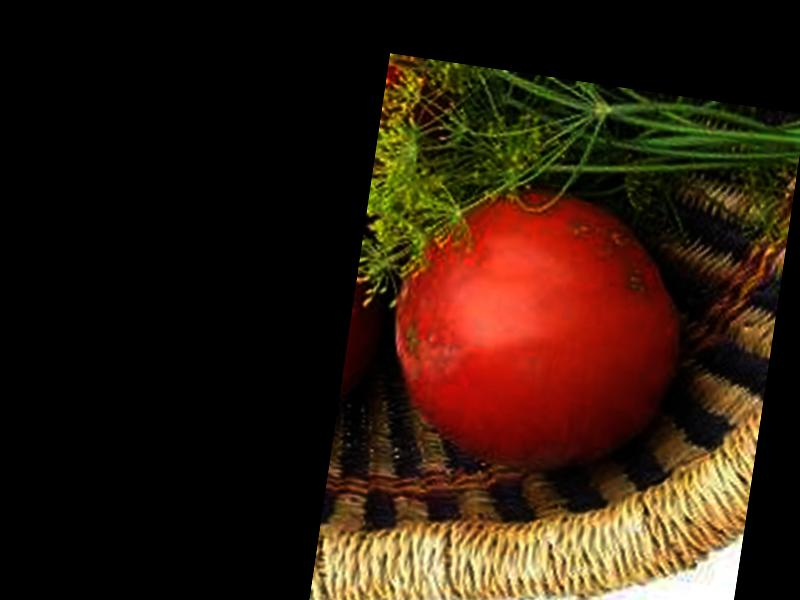Tomato: (374, 168, 697, 488)
